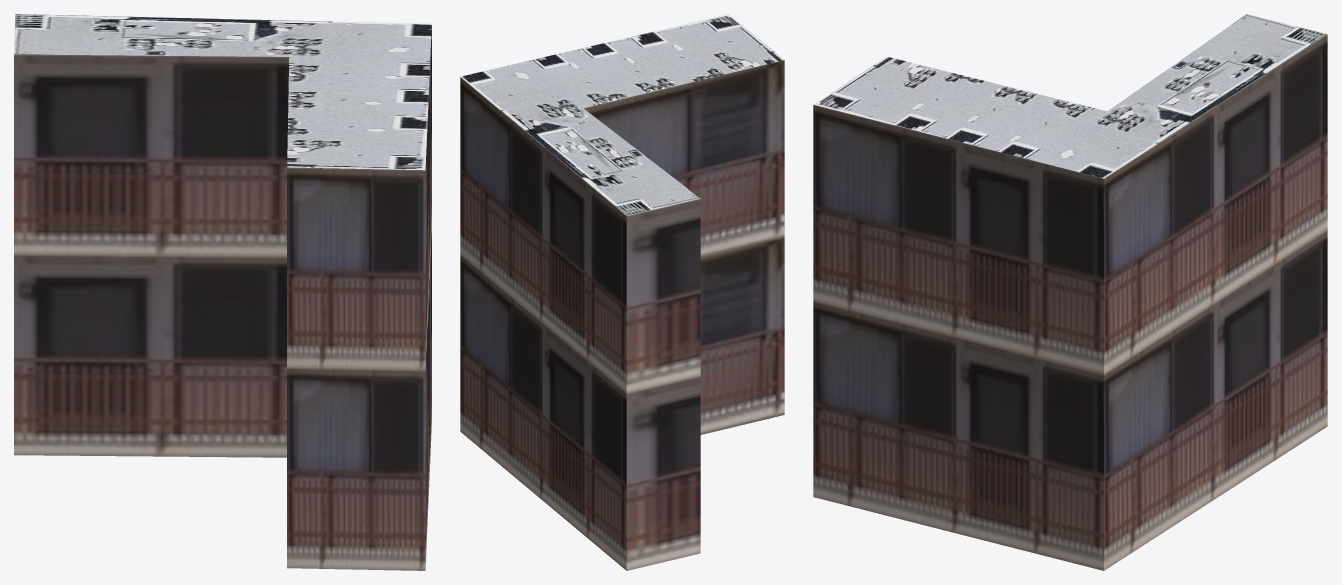
Rendered from ResTex__2730.fbx.
3 views of the same model, side by side, from view 1: azimuth 30°, elevation 25°; view 2: azimuth 150°, elevation 25°; view 3: azimuth 270°, elevation 25° (orthographic). The views are drawn at different scales.
Visible parts, largest first — view 1: CityEngineMaterial_6_m, CityEngineMaterial_4_m; view 2: CityEngineMaterial_6_m, CityEngineMaterial_4_m; view 3: CityEngineMaterial_6_m, CityEngineMaterial_4_m.
Boxes of the visible parts, x1=… form: CityEngineMaterial_6_m: x1=14, y1=25, x2=431, y2=570; CityEngineMaterial_4_m: x1=14, y1=14, x2=431, y2=170; CityEngineMaterial_6_m: x1=460, y1=60, x2=784, y2=570; CityEngineMaterial_4_m: x1=460, y1=14, x2=783, y2=215; CityEngineMaterial_6_m: x1=813, y1=34, x2=1327, y2=570; CityEngineMaterial_4_m: x1=813, y1=14, x2=1327, y2=178.
Size of the model in its own units: 5.4 by 6 by 7.13.
2 materials, 2 textured.
